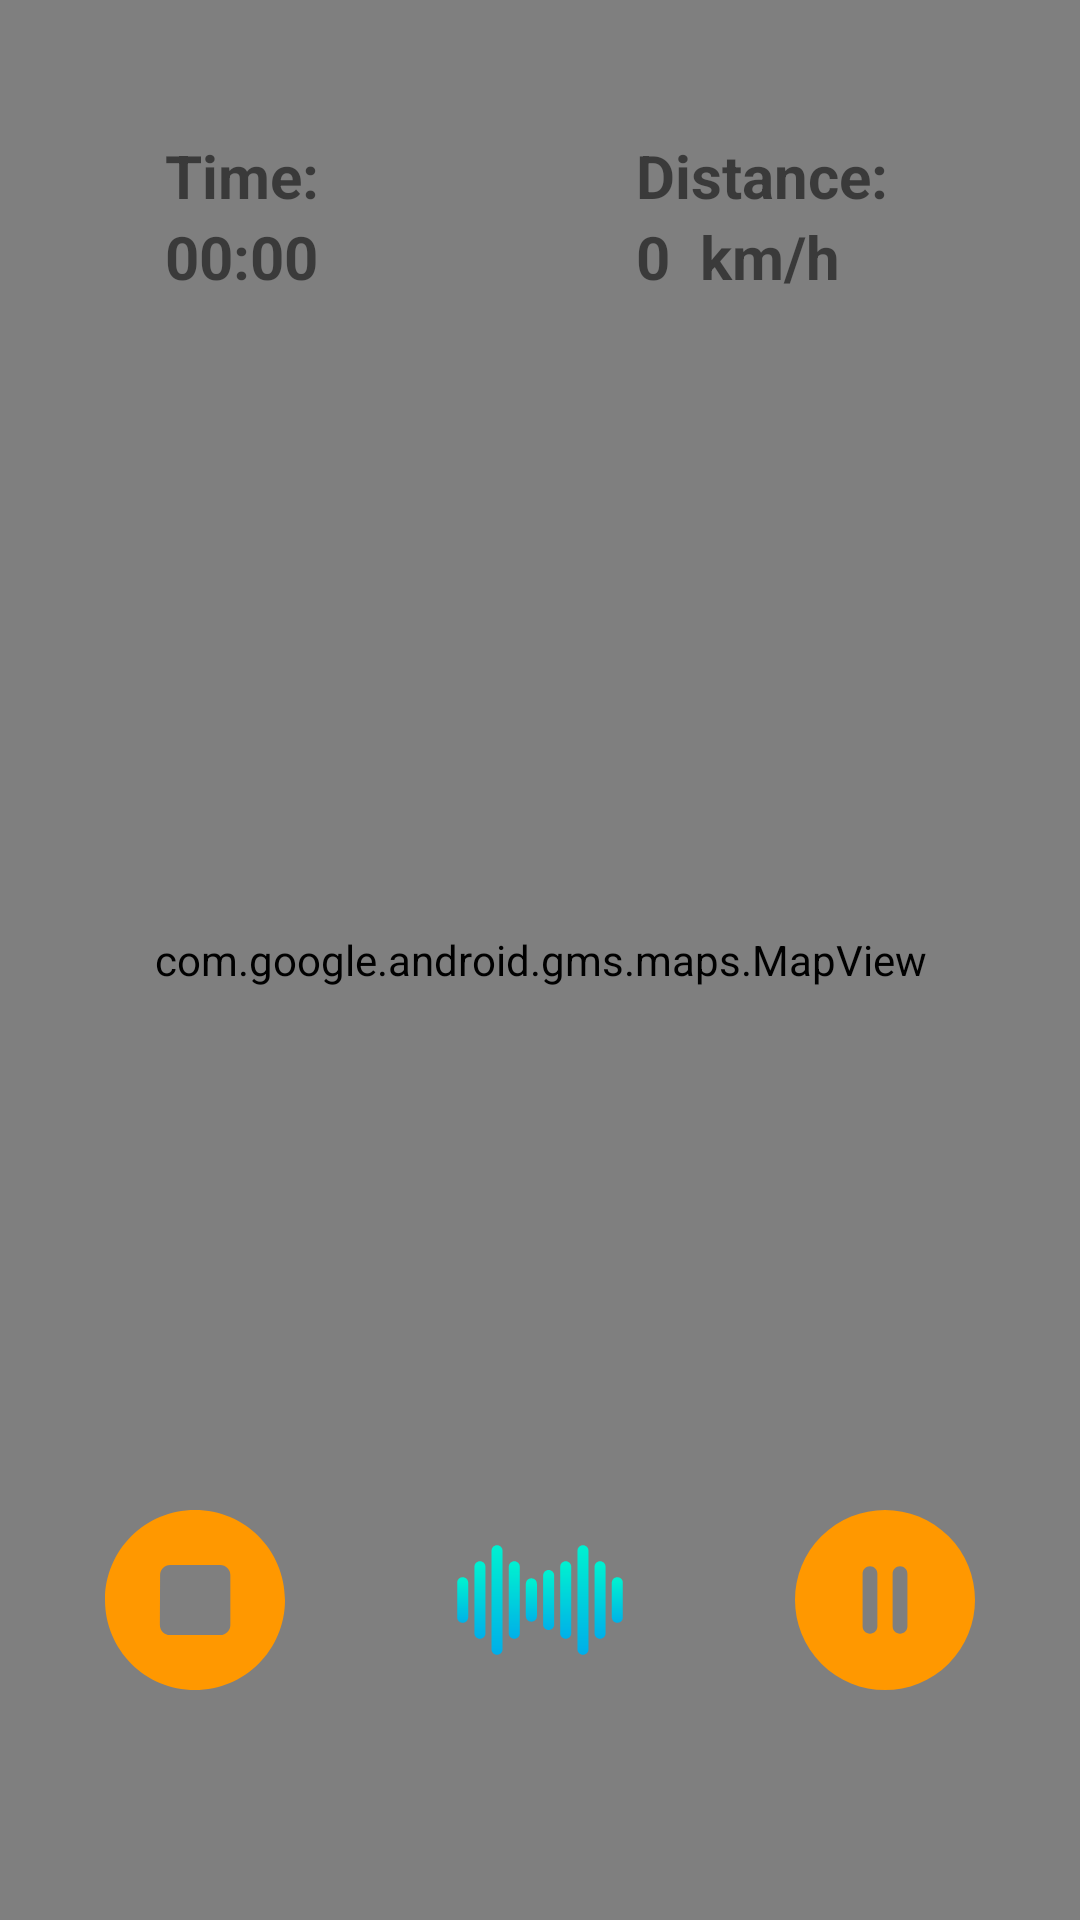

Icons on this 1080w x 1920h Android screen, each with its box as (x1, y1, x2, y2):
pause: (795, 1510, 975, 1690)
sound waves: (457, 1545, 623, 1655)
stop: (105, 1510, 285, 1690)
